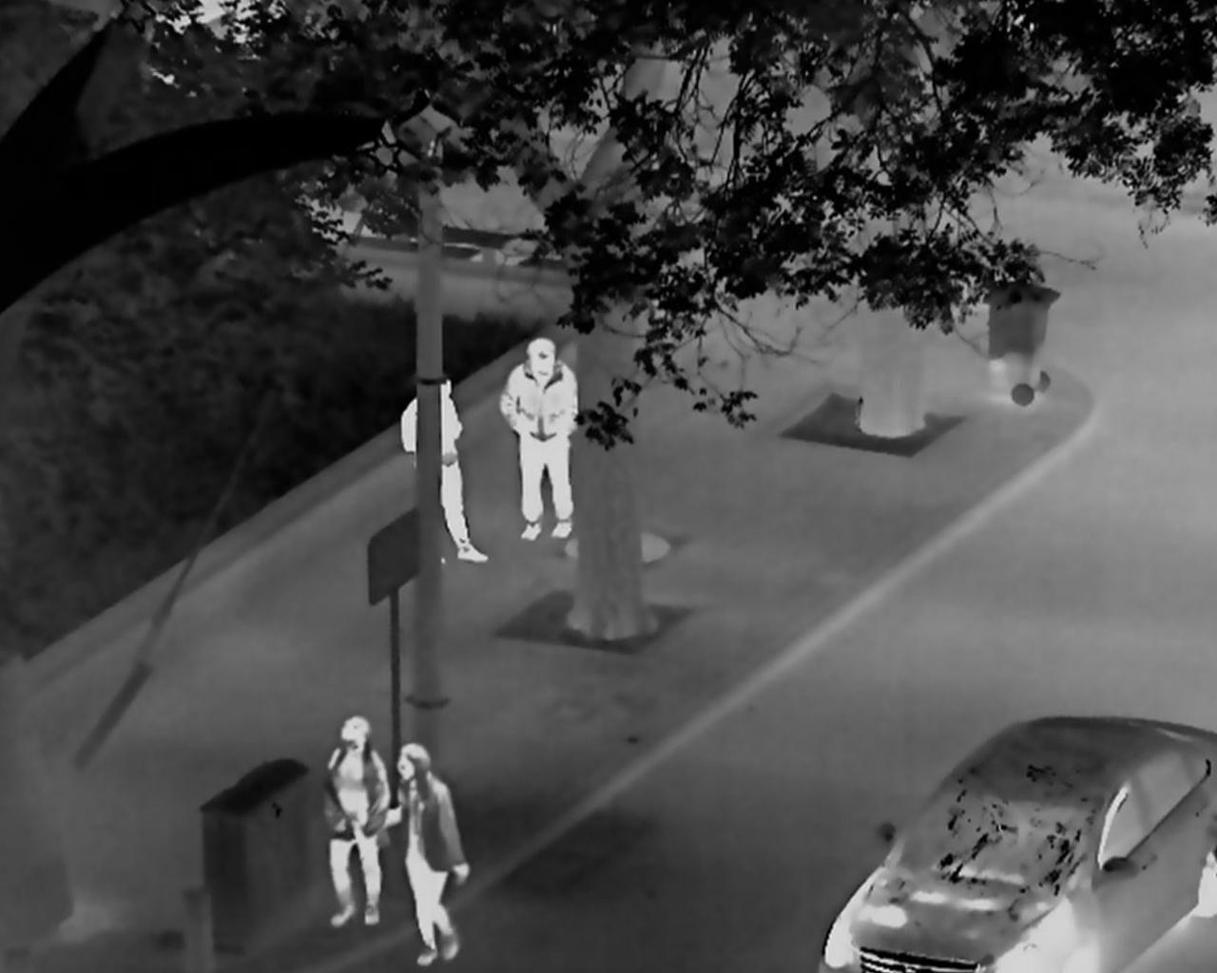person: (369, 740, 471, 965), (399, 372, 491, 564), (497, 338, 578, 544), (324, 715, 389, 929)
